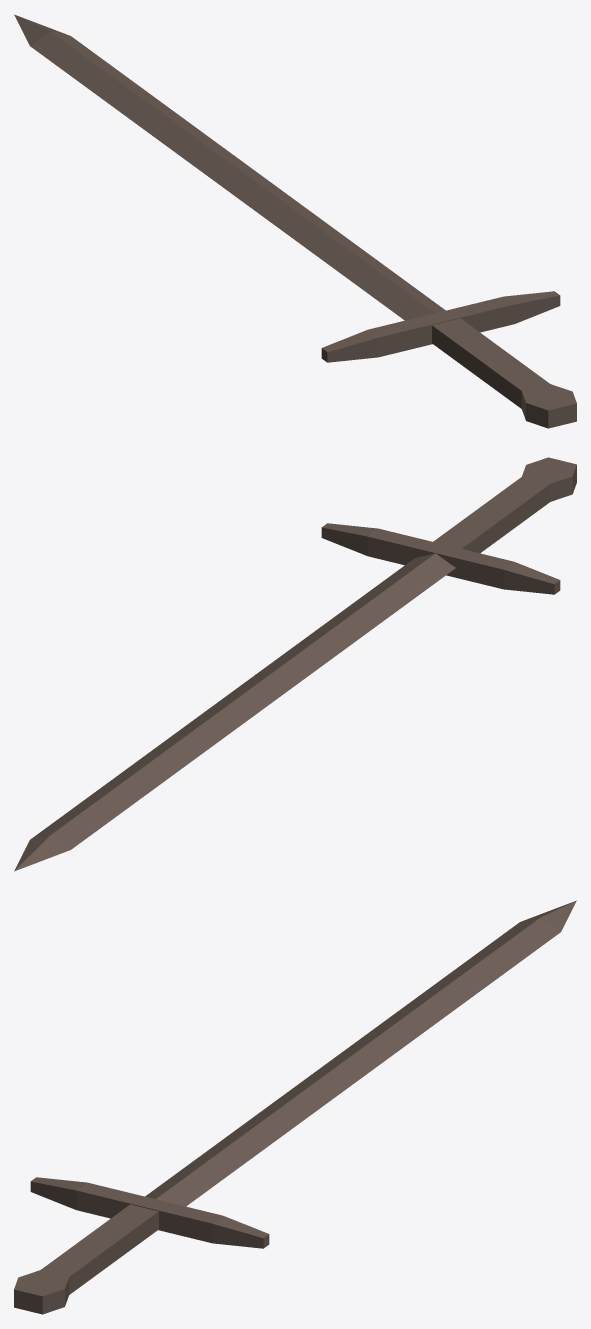
The model's file is Sword.fbx.glb.
The picture shows the model from 3 angles, top to bottom: view 1: azimuth 30°, elevation 25°; view 2: azimuth 150°, elevation 25°; view 3: azimuth 330°, elevation 25°; orthographic projection.
Parts seen in each view (by area): view 1: Sword.1; view 2: Sword.1; view 3: Sword.1.
Part boxes in pixels (x1,y1,x2,y2): Sword.1: (14,14,576,428); Sword.1: (14,457,576,871); Sword.1: (14,900,576,1314).
Size of the model in its own units: 19.4 by 1.57 by 79.17.
